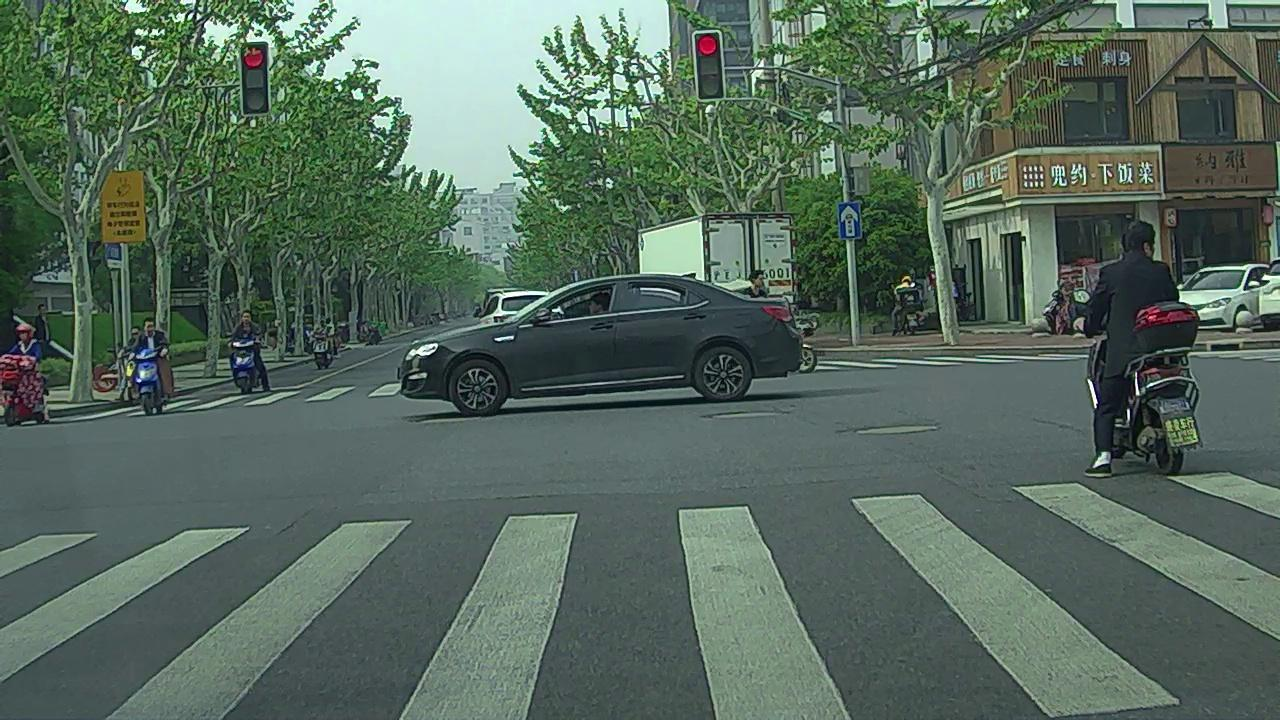traffic_light: (238, 41, 268, 113), (694, 33, 724, 100)
